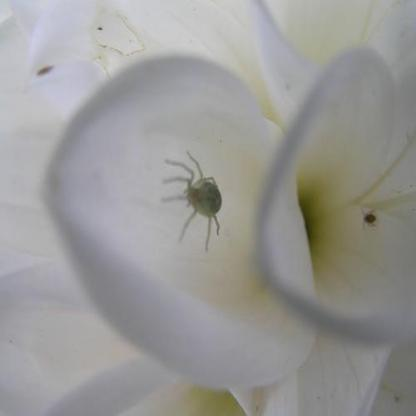aphid: (163, 145, 233, 250), (357, 206, 383, 233)
